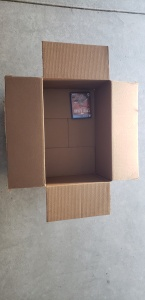innerbox: (43, 78, 111, 182)
outerbox: (8, 41, 138, 216)
product: (69, 92, 93, 119)
